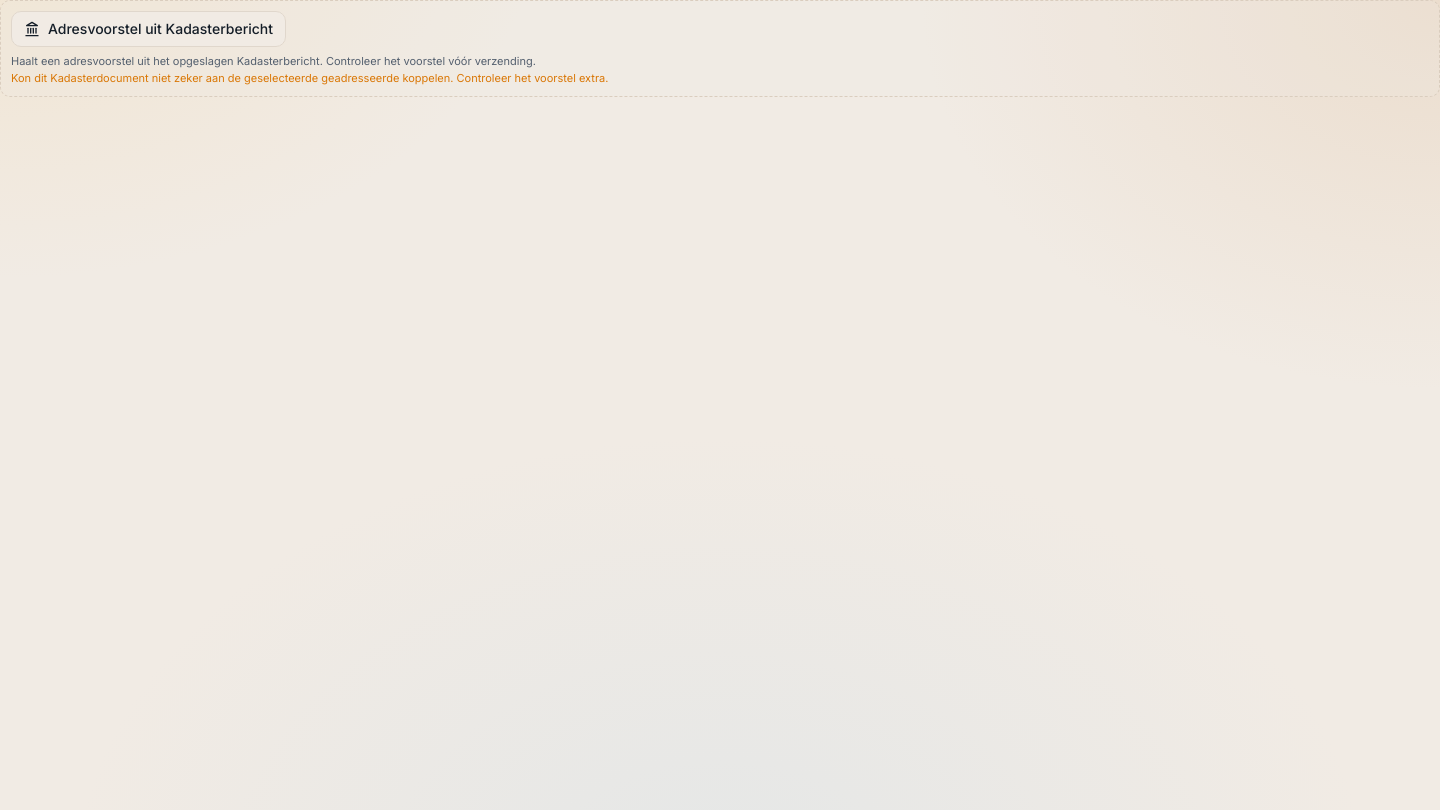
KadasterPdfAdresVoorstelPanel › haalt voorstellen op en neemt enige voorstel over
Later steps or results of the test are not shown.
Click the button with test id "kpv-start-knop".
click(148, 29)  # box x1=11 y1=11 x2=286 y2=47
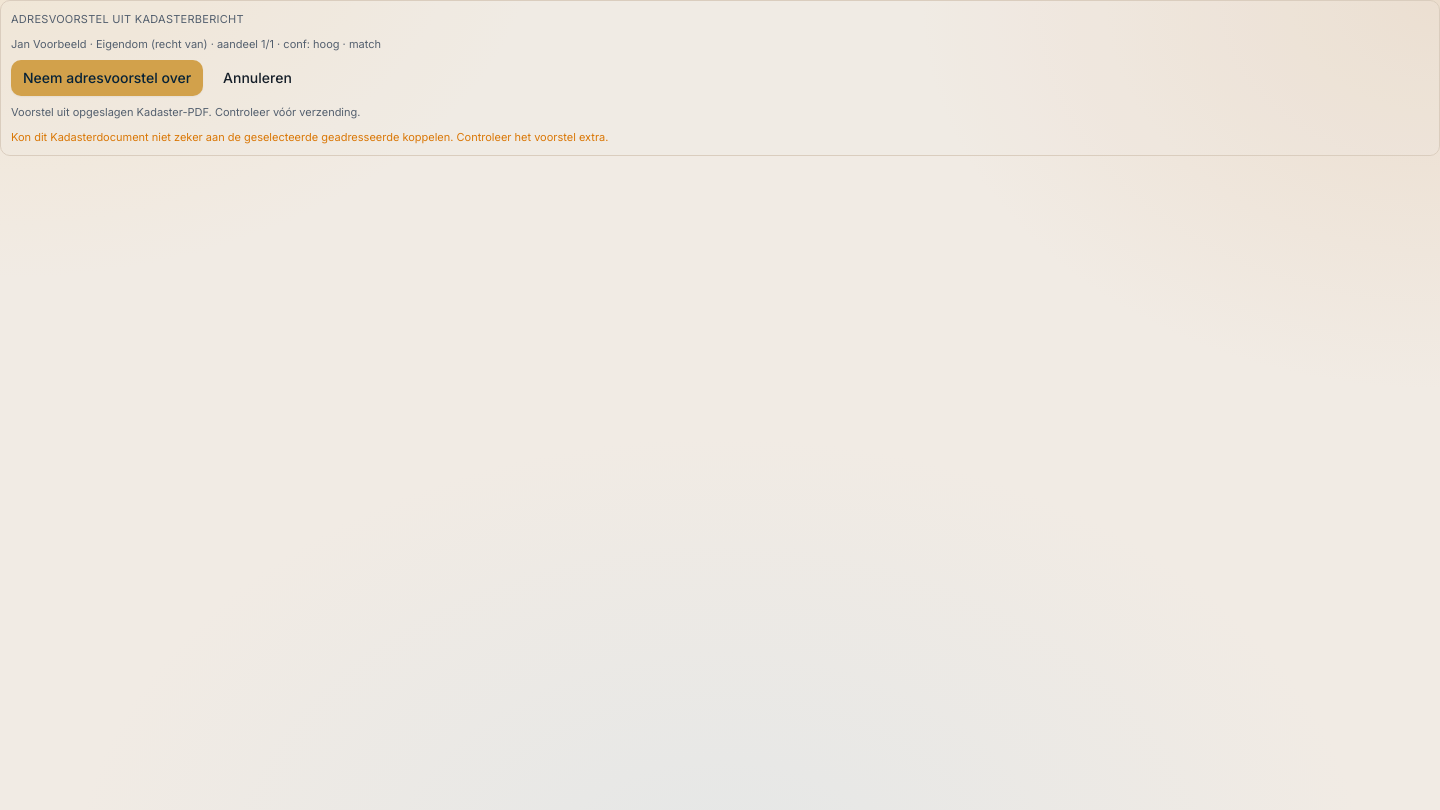
Now the button with test id "kpv-overnemen" is shown, box x1=11 y1=60 x2=203 y2=96
